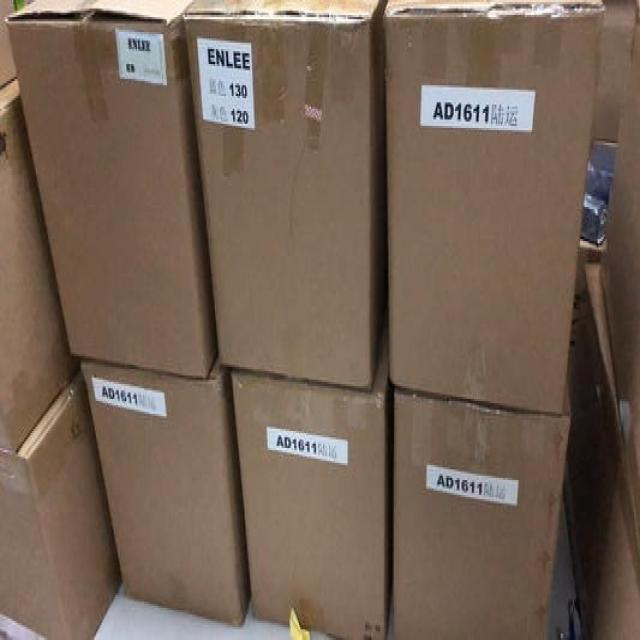box: (384, 2, 606, 413), (4, 0, 218, 379), (183, 0, 389, 388), (232, 324, 389, 638), (81, 351, 251, 630), (393, 376, 572, 638), (0, 369, 122, 637), (2, 77, 79, 449), (563, 264, 639, 637), (600, 3, 639, 525), (0, 2, 18, 86)
